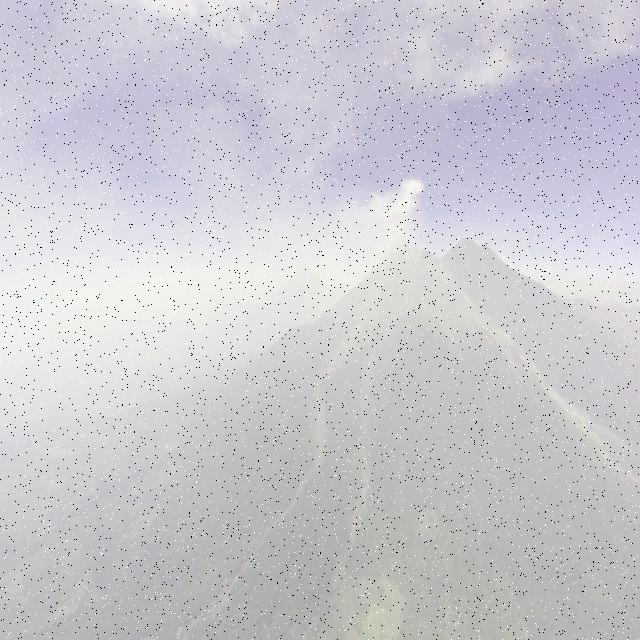Plume: (366, 174, 424, 244)
Summit: (376, 235, 429, 262)
